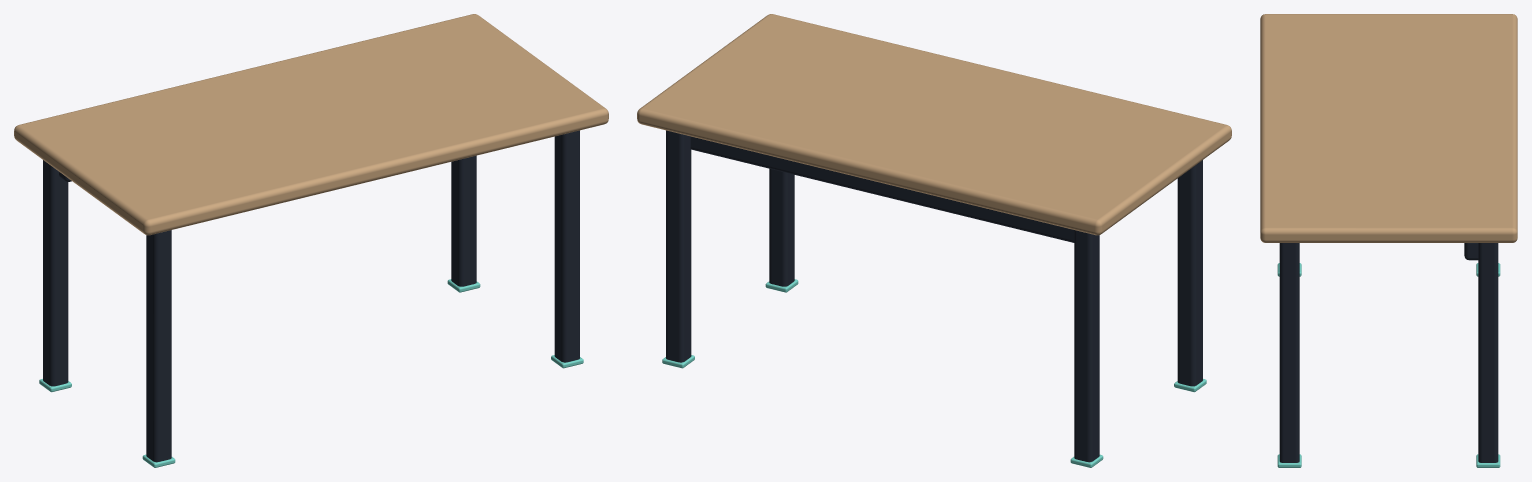
File: desk.office.140.476208087d.glb
3 views of the same model, side by side, from view 1: azimuth 30°, elevation 25°; view 2: azimuth 150°, elevation 25°; view 3: azimuth 270°, elevation 25° (orthographic). The views are drawn at different scales.
Visible parts, largest first — view 1: top, frame, accent; view 2: top, frame, accent; view 3: top, frame, accent.
Boxes of the visible parts, x1,y1,x2,y2 form: top: (14, 14, 608, 235); frame: (43, 130, 579, 462); accent: (39, 279, 583, 467); top: (637, 14, 1231, 235); frame: (666, 130, 1202, 462); accent: (662, 279, 1206, 467); top: (1260, 14, 1517, 242); frame: (1279, 243, 1498, 462); accent: (1277, 263, 1500, 467).
Bounding box in the file's own units: 1.4 × 0.74 × 0.7.
